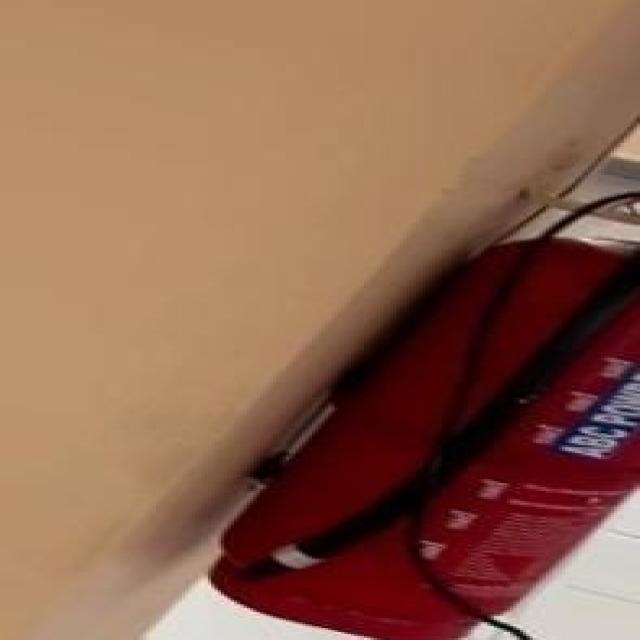fire_extinguisher: (192, 185, 636, 638)
